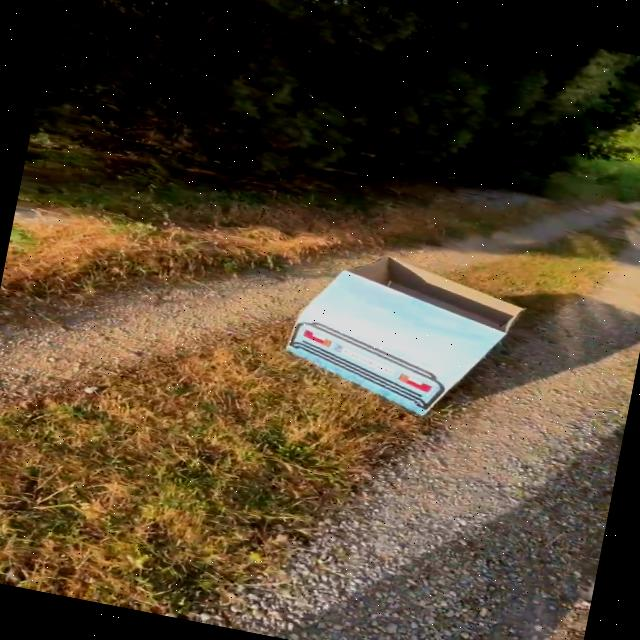blue_car: (235, 214, 577, 463)
